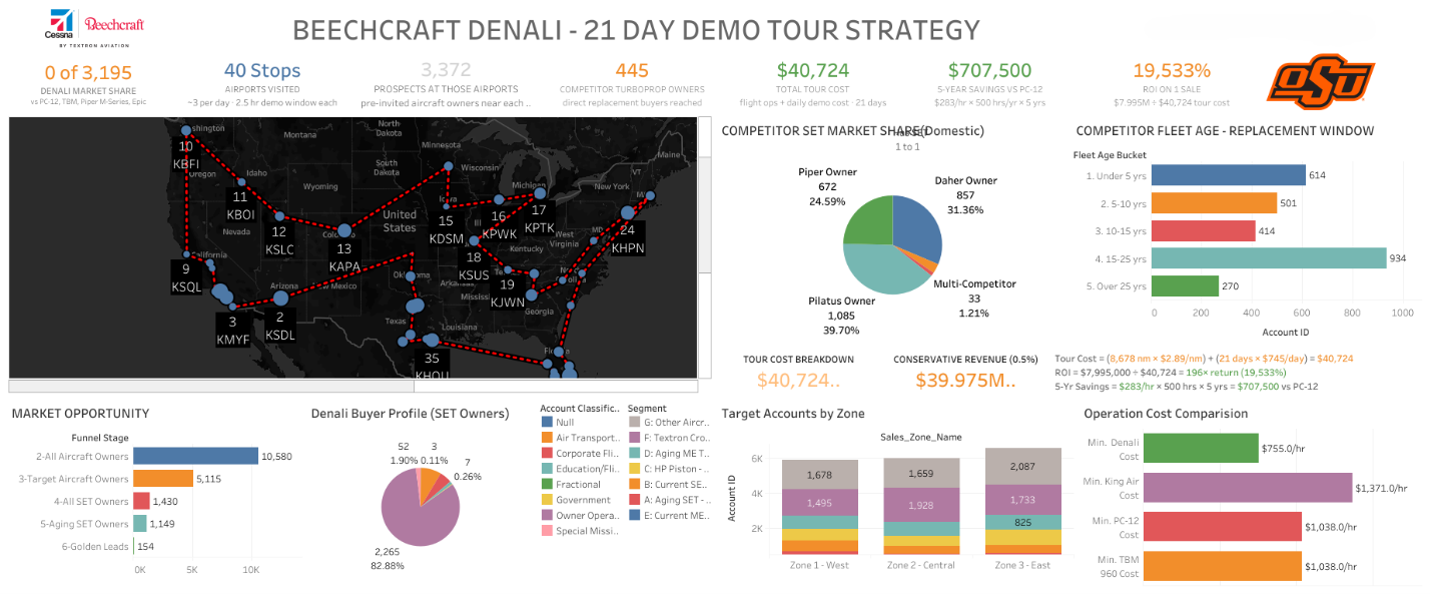

What the dashboard file says about the page in this screenshot:
{"tool":"tableau","page":{"name":"BEECHCRAFT DENALI DEMO TOUR STRATEGY","canvas":[1000,1000],"units":"permille","ordinal":0},"visuals":[{"type":"image","param":"Image/9.png","box":[4.7,8.9,135.2,75.2]},{"type":"text","box":[139.8,8.9,681.1,75.2]},{"type":"text","box":[821,8.9,174.4,75.2]},{"type":"text","box":[4.7,84.1,115.8,105.6]},{"type":"text","box":[120.5,84.1,127.5,105.6]},{"type":"text","box":[247.9,84.1,129.8,105.6]},{"type":"text","box":[377.8,84.1,129.8,105.6]},{"type":"text","box":[507.6,84.1,120.5,105.6]},{"type":"text","box":[628,84.1,127.5,105.6]},{"type":"text","box":[755.5,84.1,127.5,105.6]},{"type":"image","param":"Image/logo-vertical.svg","box":[883,84.1,112.3,105.6]},{"type":"worksheet","title":"Route Map","mark":"Line","rows":["Latitude","Latitude"],"cols":["Longitude"],"box":[4.7,189.7,495.3,476.6]},{"type":"worksheet","title":"COMPETITOR SET MARKET SHARE(Domestic)","mark":"Pie","box":[500,189.7,247.7,394]},{"type":"worksheet","title":"COMPETITOR FLEET AGE - REPLACEMENT WINDOW","mark":"Bar","rows":["Calculation_0512410618093584"],"cols":["Account_ID"],"box":[747.6,189.7,247.7,394]},{"type":"filter","title":"COMPETITOR SET MARKET SHARE(Domestic)","param":"[federated.0d9vog10dp8pjg1c7vtt30mdqhky].[none:Has_SET:qk]","box":[624.3,208.7,98.3,70.3]},{"type":"text","box":[500,583.7,116.9,82.6]},{"type":"text","box":[616.9,583.7,116.9,82.6]},{"type":"text","box":[733.8,583.7,261.6,82.6]},{"type":"worksheet","title":"MARKET OPPORTUNITY","mark":"Automatic","rows":["Calculation_2415940296990721"],"cols":["Account_ID"],"box":[4.7,666.3,208.9,324.8]},{"type":"worksheet","title":"Denali Buyer Profile (SET Owners)","mark":"Pie","box":[213.6,666.3,151.8,324.8]},{"type":"legend","title":"Denali Buyer Profile (SET Owners)","param":"[federated.0d9vog10dp8pjg1c7vtt30mdqhky].[none:Account_Classification:nk]","box":[365.4,666.3,66.1,324.8]},{"type":"legend","title":"Target Accounts by Zone","param":"[federated.0d9vog10dp8pjg1c7vtt30mdqhky].[none:Segment:nk]","box":[431.5,666.3,68.5,324.8]},{"type":"worksheet","title":"Target Accounts by Zone","mark":"Automatic","rows":["Account_ID"],"cols":["Calculation_0512410620399640"],"box":[500,666.3,233.8,324.8]},{"type":"worksheet","title":"Operation Cost Comparision","mark":"Bar","box":[733.8,666.3,261.6,324.8]}]}

Visuals, with their boxes on the dashboard's canvas, which has no fixed pixel size, in thousandths of its width and height (x1, y1, x2, y2). These are canvas units, not pixel positions in the 1430x594 screenshot, which may show the page scaled, cropped or inside an application window:
image: (x1=5, y1=9, x2=140, y2=84)
text: (x1=140, y1=9, x2=821, y2=84)
text: (x1=821, y1=9, x2=995, y2=84)
text: (x1=5, y1=84, x2=120, y2=190)
text: (x1=120, y1=84, x2=248, y2=190)
text: (x1=248, y1=84, x2=378, y2=190)
text: (x1=378, y1=84, x2=508, y2=190)
text: (x1=508, y1=84, x2=628, y2=190)
text: (x1=628, y1=84, x2=756, y2=190)
text: (x1=756, y1=84, x2=883, y2=190)
image: (x1=883, y1=84, x2=995, y2=190)
"Route Map" worksheet (Line marks): (x1=5, y1=190, x2=500, y2=666)
"COMPETITOR SET MARKET SHARE(Domestic)" worksheet (Pie marks): (x1=500, y1=190, x2=748, y2=584)
"COMPETITOR FLEET AGE - REPLACEMENT WINDOW" worksheet (Bar marks): (x1=748, y1=190, x2=995, y2=584)
"COMPETITOR SET MARKET SHARE(Domestic)" filter: (x1=624, y1=209, x2=723, y2=279)
text: (x1=500, y1=584, x2=617, y2=666)
text: (x1=617, y1=584, x2=734, y2=666)
text: (x1=734, y1=584, x2=995, y2=666)
"MARKET OPPORTUNITY" worksheet: (x1=5, y1=666, x2=214, y2=991)
"Denali Buyer Profile (SET Owners)" worksheet (Pie marks): (x1=214, y1=666, x2=365, y2=991)
"Denali Buyer Profile (SET Owners)" legend: (x1=365, y1=666, x2=432, y2=991)
"Target Accounts by Zone" legend: (x1=432, y1=666, x2=500, y2=991)
"Target Accounts by Zone" worksheet: (x1=500, y1=666, x2=734, y2=991)
"Operation Cost Comparision" worksheet (Bar marks): (x1=734, y1=666, x2=995, y2=991)
